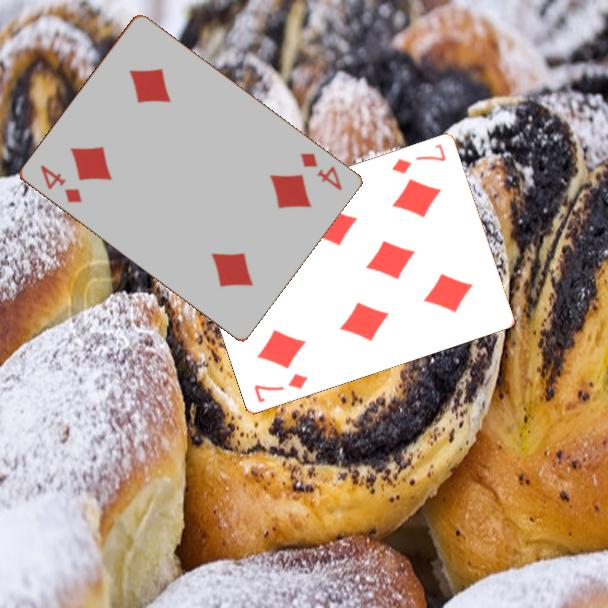d04: (36, 161, 85, 206), (296, 149, 344, 194)
d07: (250, 369, 311, 405), (389, 140, 449, 176)
